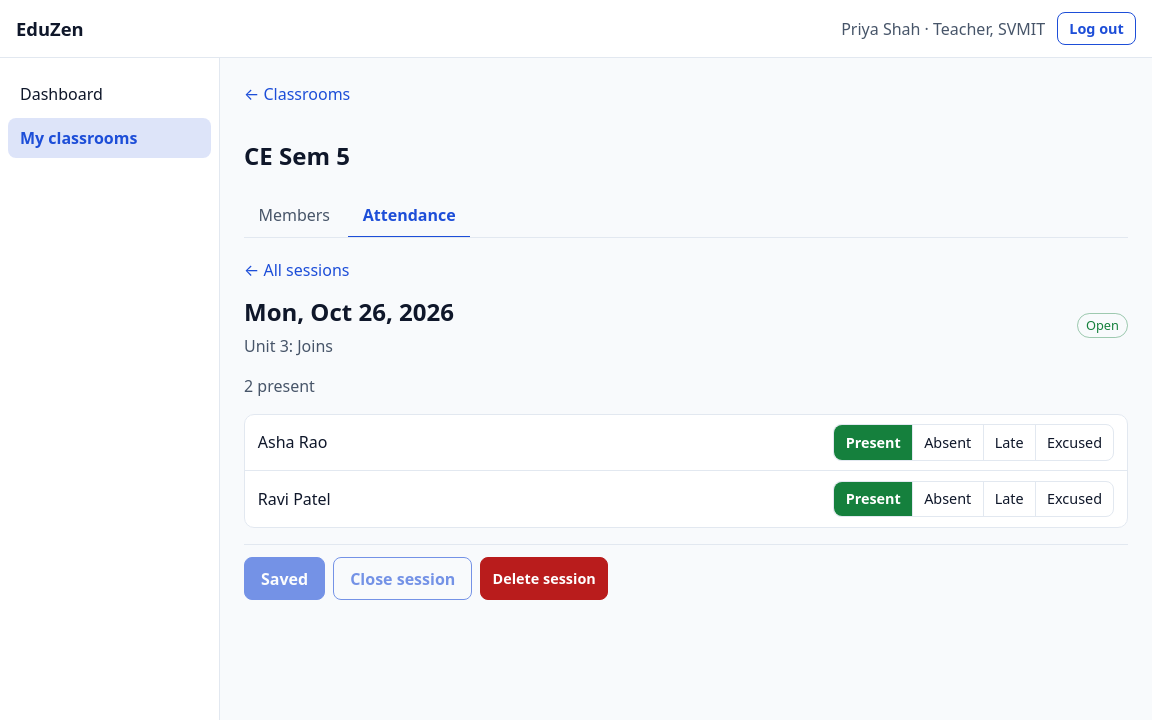
marking screen › changing a mark back to its saved value is not a change
This screenshot has width=1152, height=720.
expect the text "Ravi Patel" is shown: met, box [258,487,331,511]
Click the radio button labelled "Late" in the row of "Ravi Patel": (1009, 499) [982,482,1035,516]
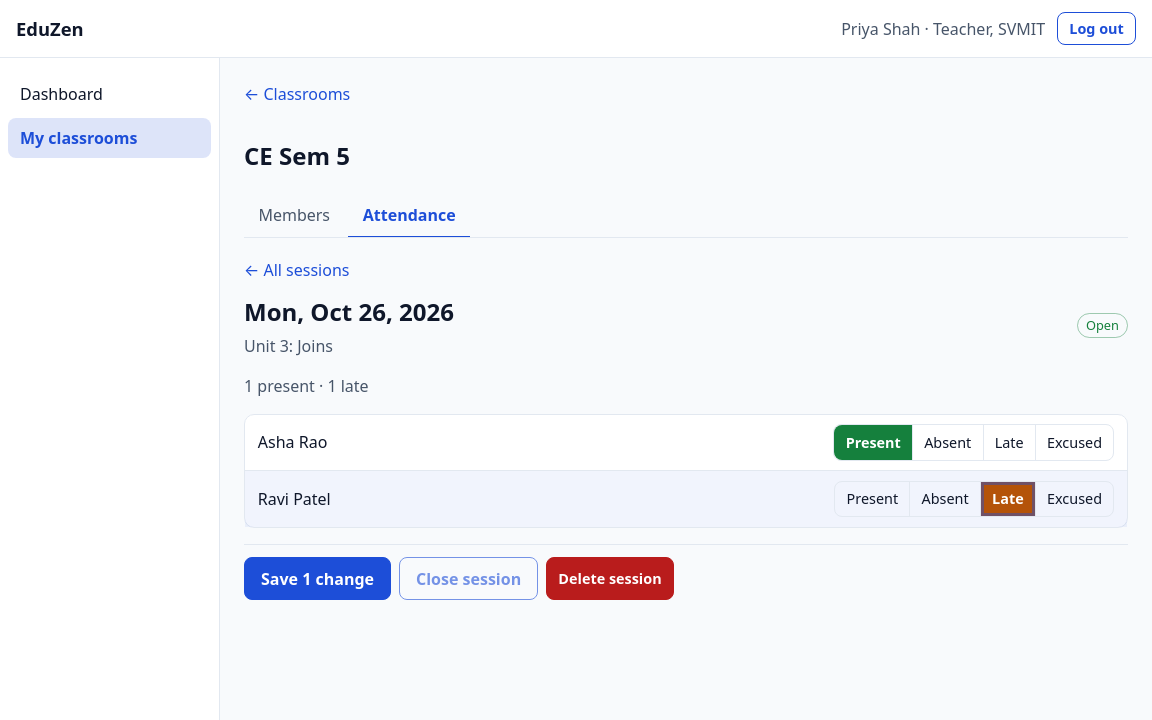
expect the button "Save 1 change" is shown: met, box [244,557,391,600]
Click the radio button labelled "Present" in the row of "Ravi Patel": (872, 499) [847,489,898,508]
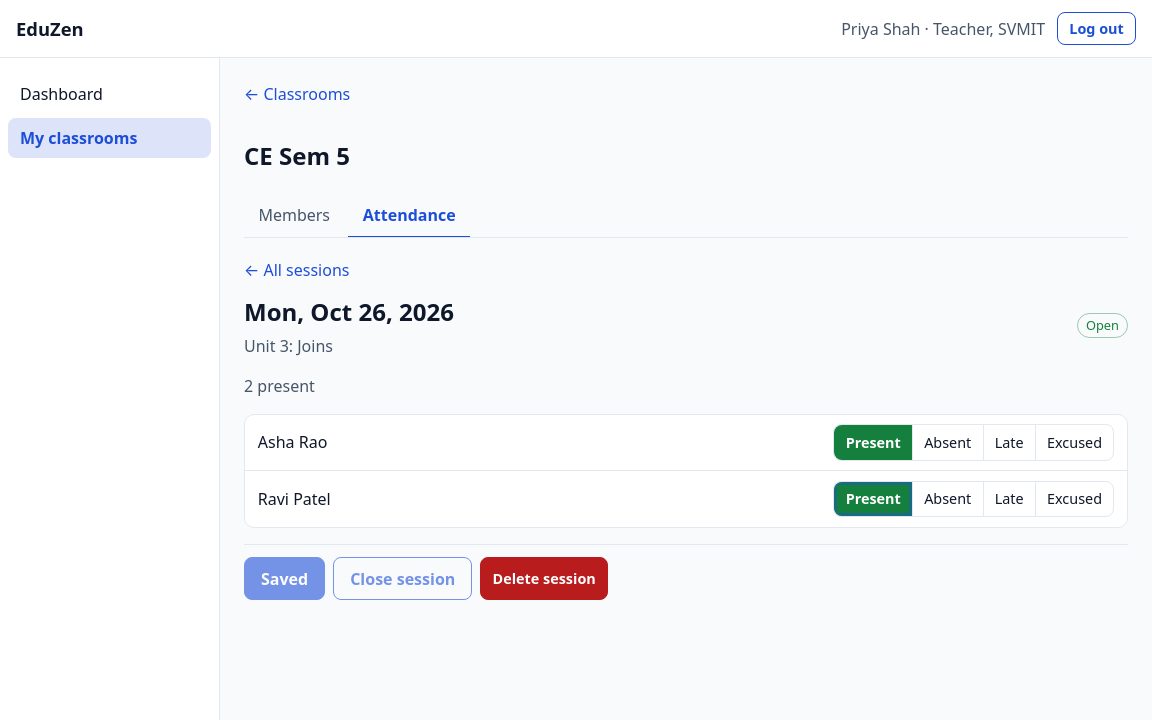
expect the button "Saved" is disabled: met, box [244,557,325,600]
